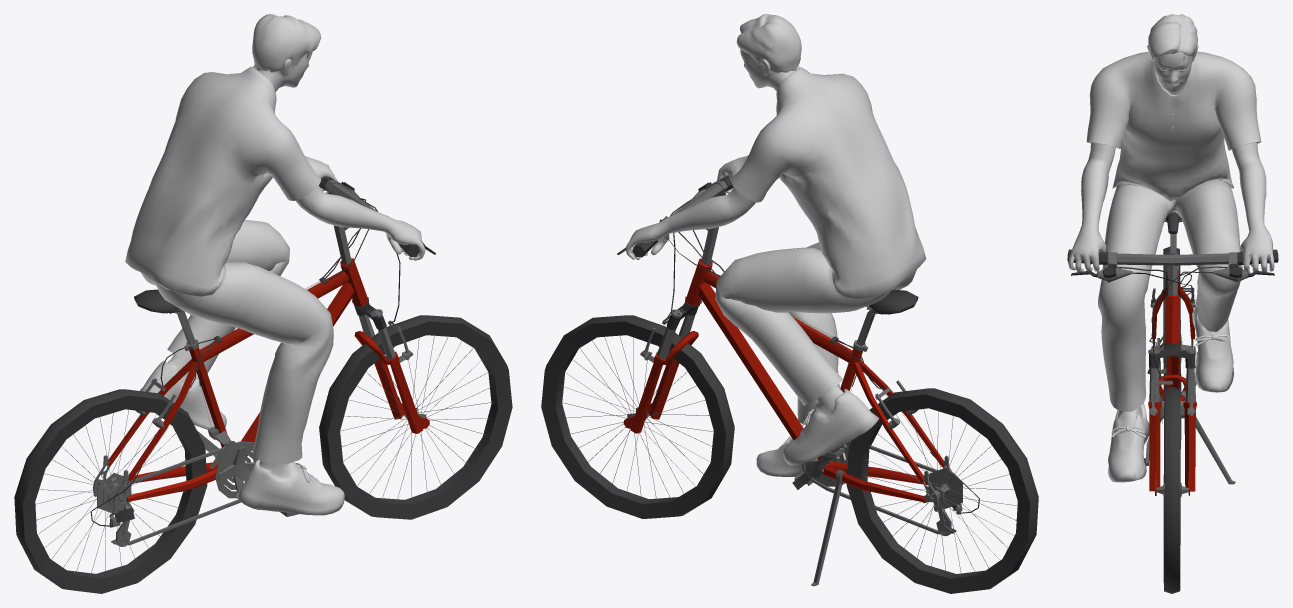
The model's file is sm_maruishi_bicycle_lod_2.fbx.
The picture shows the model from 3 angles, left to right: view 1: azimuth 30°, elevation 25°; view 2: azimuth 150°, elevation 25°; view 3: azimuth 270°, elevation 25°; orthographic projection. The views are drawn at different scales.
Parts seen in each view (by area): view 1: sm_maruishi_bicycle_lod3; view 2: sm_maruishi_bicycle_lod3; view 3: sm_maruishi_bicycle_lod3.
Part boxes in pixels (left/top/right/bottom): sm_maruishi_bicycle_lod3: left=14, top=14, right=512, bottom=593; sm_maruishi_bicycle_lod3: left=541, top=14, right=1038, bottom=593; sm_maruishi_bicycle_lod3: left=1067, top=14, right=1278, bottom=593.
Bounding box in the file's own units: 1.72 × 1.77 × 0.6688.
